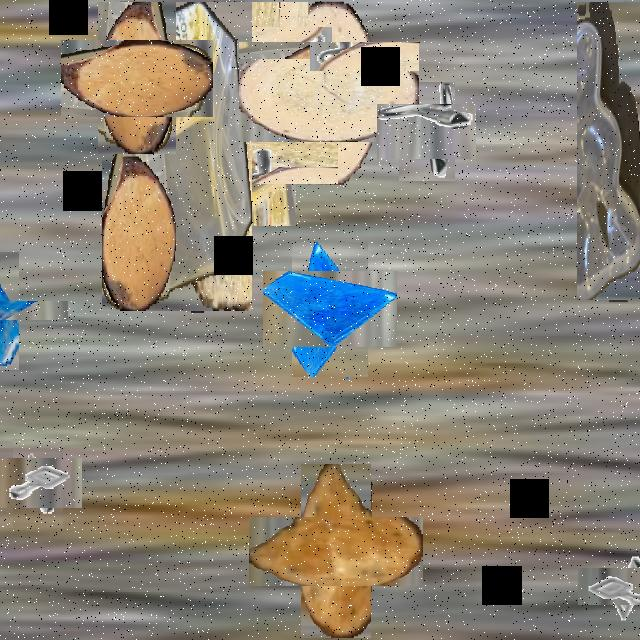glass: (277, 257, 383, 362), (0, 276, 43, 345)
metal: (234, 14, 320, 100), (388, 93, 466, 170), (3, 449, 73, 518), (590, 555, 640, 618)
plastic: (102, 2, 252, 311), (577, 2, 640, 300)
wood: (135, 23, 317, 205), (259, 22, 399, 163), (275, 490, 397, 612), (80, 20, 194, 136)
